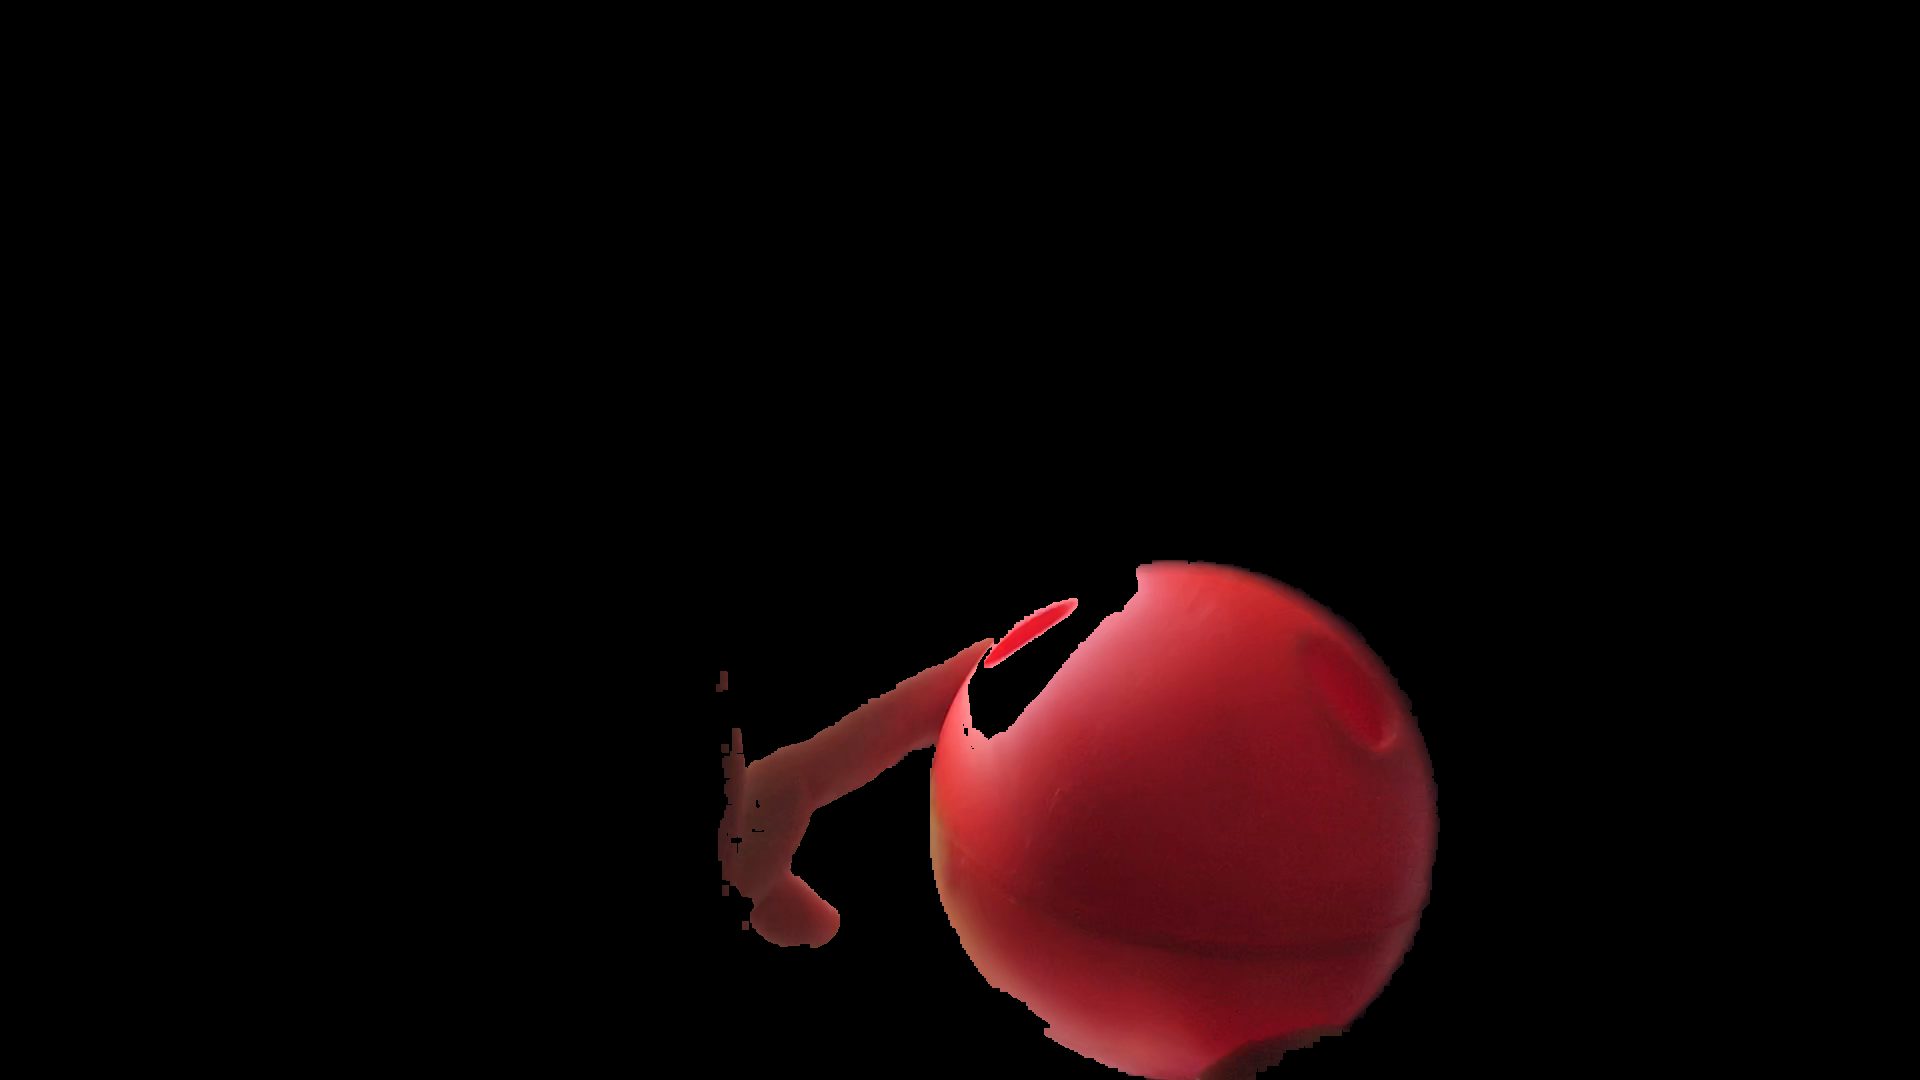Ball: (928, 563, 1440, 1076)
